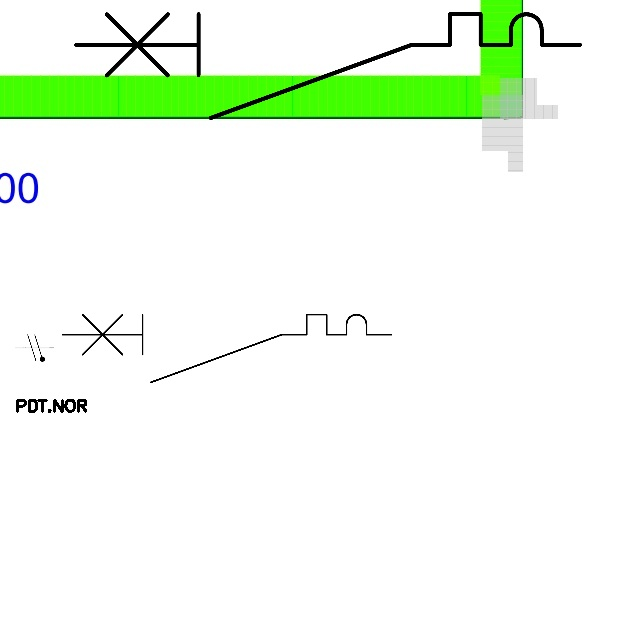interruptor_termomagnetico: (63, 1, 593, 131), (54, 306, 400, 390)
